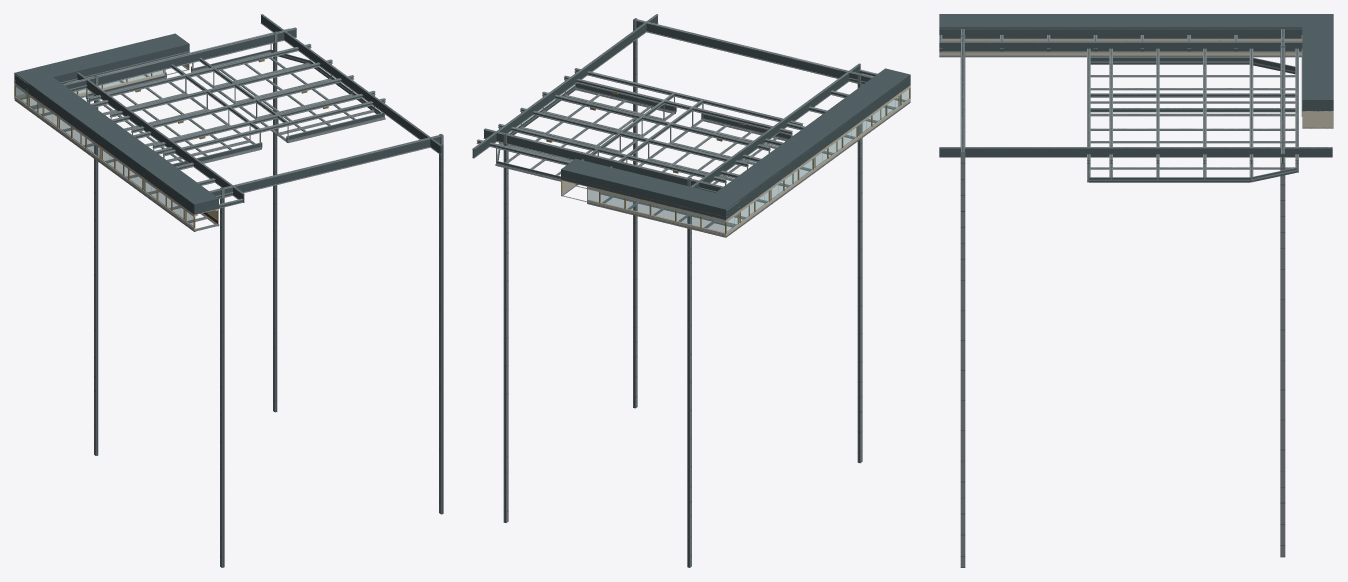
Rendered from AST-CMD-003.glb.
3 renders of one model, left to right at view 1: azimuth 30°, elevation 25°; view 2: azimuth 150°, elevation 25°; view 3: azimuth 270°, elevation 25°, orthographic. The views are drawn at different scales.
Parts seen in each view (by area): view 1: BRP_CELL_X-6_Y14_Z-11_ASTRAEA_staff_bluegrey_paint; view 2: no part large enough to name; view 3: BRP_CELL_X-6_Y14_Z-16_ASTRAEA_staff_bluegrey_paint, BRP_CELL_X-6_Y14_Z-15_ASTRAEA_staff_bluegrey_paint, BRP_CELL_X-6_Y14_Z-19_ASTRAEA_staff_bluegrey_paint, BRP_CELL_X-6_Y14_Z-18_ASTRAEA_staff_bluegrey_paint, BRP_CELL_X-6_Y14_Z-12_ASTRAEA_staff_bluegrey_paint, BRP_CELL_X-6_Y14_Z-20_ASTRAEA_staff_bluegrey_paint, BRP_CELL_X-6_Y14_Z-17_ASTRAEA_staff_bluegrey_paint, BRP_CELL_X-6_Y14_Z-14_ASTRAEA_staff_bluegrey_paint, BRP_CELL_X-6_Y14_Z-21_ASTRAEA_staff_bluegrey_paint, BRP_CELL_X-6_Y14_Z-13_ASTRAEA_staff_bluegrey_paint, BRP_CELL_X-6_Y14_Z-11_ASTRAEA_staff_bluegrey_paint, BRP_CELL_X-6_Y14_Z-22_ASTRAEA_staff_bluegrey_paint.
Part boxes in pixels (bbox=[...]): BRP_CELL_X-6_Y14_Z-11_ASTRAEA_staff_bluegrey_paint: bbox=[180, 188, 218, 211]; BRP_CELL_X-6_Y14_Z-16_ASTRAEA_staff_bluegrey_paint: bbox=[1095, 14, 1126, 35]; BRP_CELL_X-6_Y14_Z-15_ASTRAEA_staff_bluegrey_paint: bbox=[1064, 14, 1095, 35]; BRP_CELL_X-6_Y14_Z-19_ASTRAEA_staff_bluegrey_paint: bbox=[1189, 14, 1220, 35]; BRP_CELL_X-6_Y14_Z-18_ASTRAEA_staff_bluegrey_paint: bbox=[1158, 14, 1189, 35]; BRP_CELL_X-6_Y14_Z-12_ASTRAEA_staff_bluegrey_paint: bbox=[970, 14, 1001, 35]; BRP_CELL_X-6_Y14_Z-20_ASTRAEA_staff_bluegrey_paint: bbox=[1220, 14, 1251, 35]; BRP_CELL_X-6_Y14_Z-17_ASTRAEA_staff_bluegrey_paint: bbox=[1126, 14, 1157, 35]; BRP_CELL_X-6_Y14_Z-14_ASTRAEA_staff_bluegrey_paint: bbox=[1033, 14, 1064, 35]; BRP_CELL_X-6_Y14_Z-21_ASTRAEA_staff_bluegrey_paint: bbox=[1251, 14, 1282, 35]; BRP_CELL_X-6_Y14_Z-13_ASTRAEA_staff_bluegrey_paint: bbox=[1002, 14, 1032, 35]; BRP_CELL_X-6_Y14_Z-11_ASTRAEA_staff_bluegrey_paint: bbox=[939, 14, 970, 35]; BRP_CELL_X-6_Y14_Z-22_ASTRAEA_staff_bluegrey_paint: bbox=[1283, 14, 1313, 35].
Bounding box in the file's own units: 83.94 × 118 × 101.
7 materials, 6 textured.
